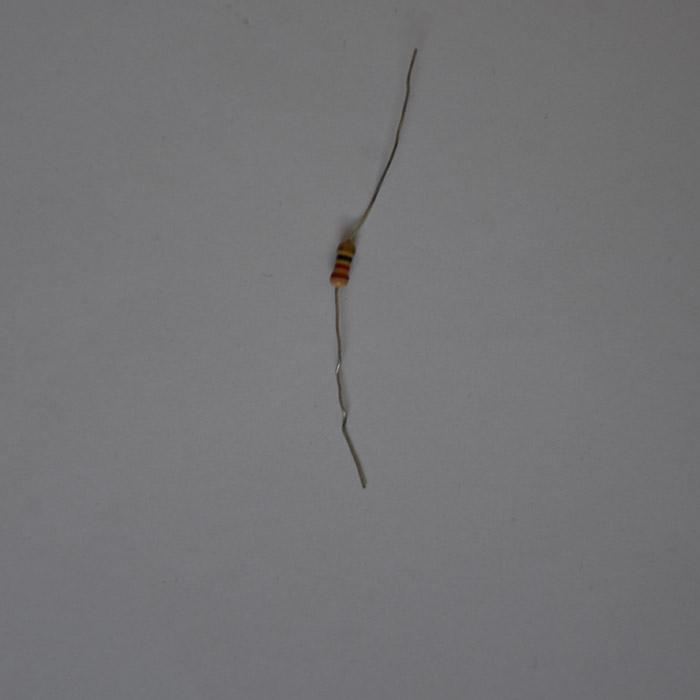resistor: (329, 237, 356, 287)
